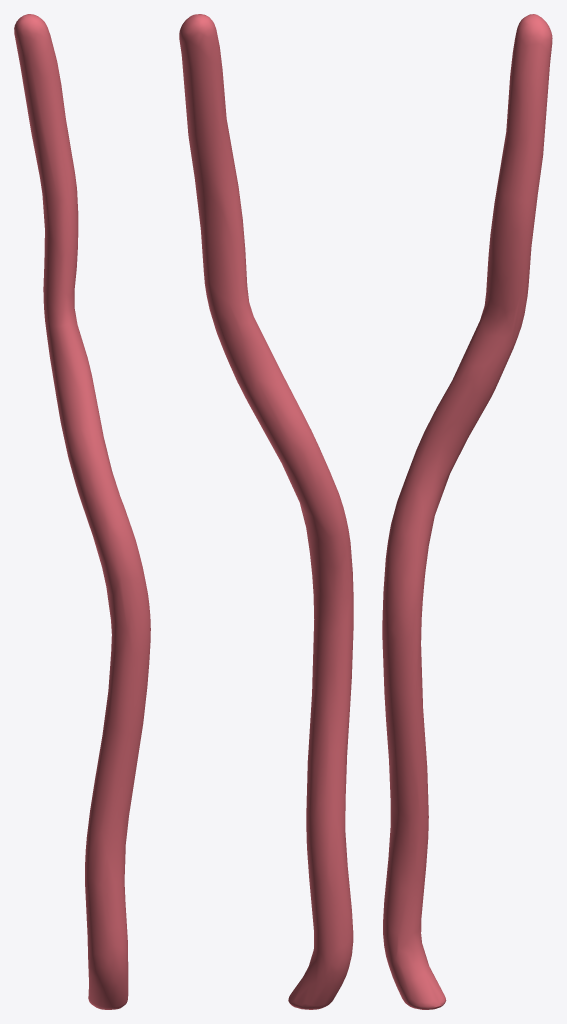
Rendered from fma4950_fj3493.glb.
3 views of the same model, side by side, from view 1: azimuth 90°, elevation 25°; view 2: azimuth 150°, elevation 25°; view 3: azimuth 330°, elevation 25° (orthographic). The views are drawn at different scales.
Visible parts, largest first — view 1: FMA4950_FJ3493; view 2: FMA4950_FJ3493; view 3: FMA4950_FJ3493.
Boxes of the visible parts, <box> form: FMA4950_FJ3493: <box>14,14,150,1009</box>; FMA4950_FJ3493: <box>179,14,353,1009</box>; FMA4950_FJ3493: <box>382,14,552,1009</box>.
Bounding box in the file's own units: 0.0204 × 0.1504 × 0.0195.
